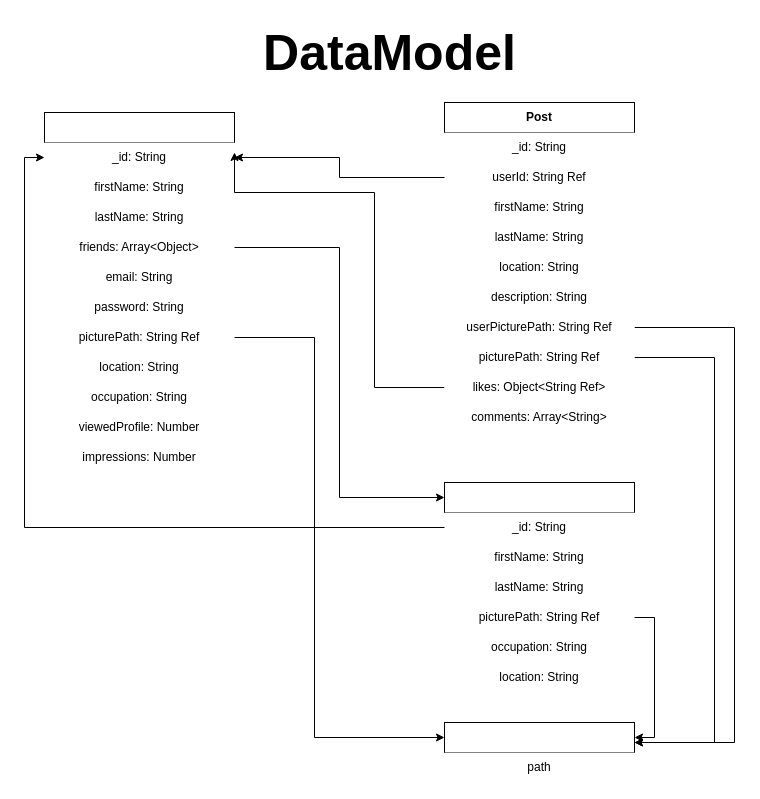
Some shapes in this 760 by 799 pixel diagram are drawn without their labels. The shapes that lost their labels are listed below. From the top down, each one's centre as x and y in pixels, then its label:
At pixel 139 127: "User".
At pixel 539 497: "Friend (Sub Doc)".
At pixel 539 737: "Images".
